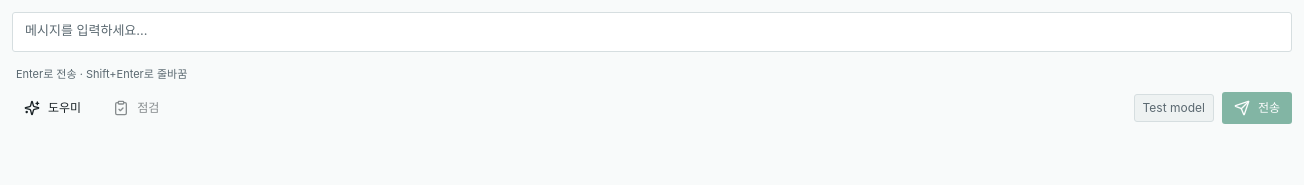
Scenario: ChatInput ambiguity hints › keeps Korean vague-input hints under the Korean locale
Type "고쳐줘" into the text box with test id "chat-input-textarea" at (652, 32), box x1=12 y1=12 x2=1292 y2=52
Wait 500 ms
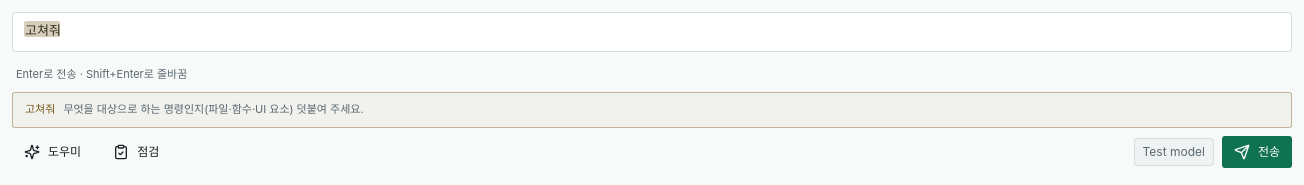
Now the list with test id "ambiguity-hint-list" shows "고쳐줘", box x1=25 y1=102 x2=55 y2=116
